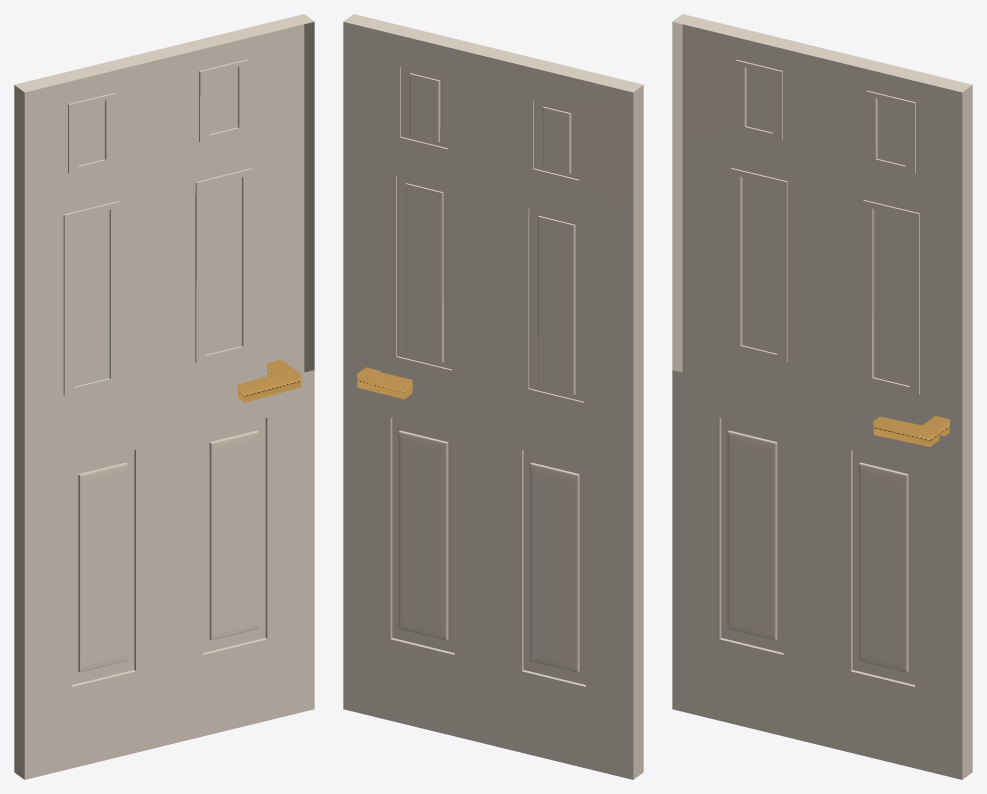
Rendered from missingDoor.glb.
3 views of the same model, side by side, from view 1: azimuth 30°, elevation 25°; view 2: azimuth 150°, elevation 25°; view 3: azimuth 330°, elevation 25° (orthographic).
Parts seen in each view (by area): view 1: NewDoor.003; view 2: NewDoor.003; view 3: NewDoor.003.
Boxes of the visible parts, box(x1,y1,x2,y2) form: NewDoor.003: box(14, 14, 314, 779); NewDoor.003: box(343, 14, 643, 779); NewDoor.003: box(672, 14, 972, 779).
Size of the model in its own units: 0.9527 by 2.16 by 0.163.
Materials: 1 (1 with a texture image).
